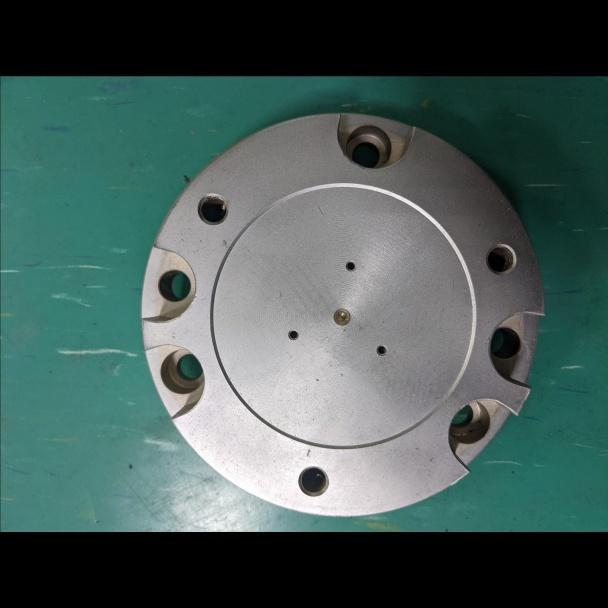hole: (334, 117, 398, 175), (154, 343, 211, 405), (444, 396, 502, 452), (148, 264, 196, 308), (484, 320, 525, 362), (480, 240, 523, 277), (193, 190, 232, 228), (292, 462, 331, 499), (373, 342, 390, 358), (341, 258, 358, 273), (285, 327, 300, 342)
